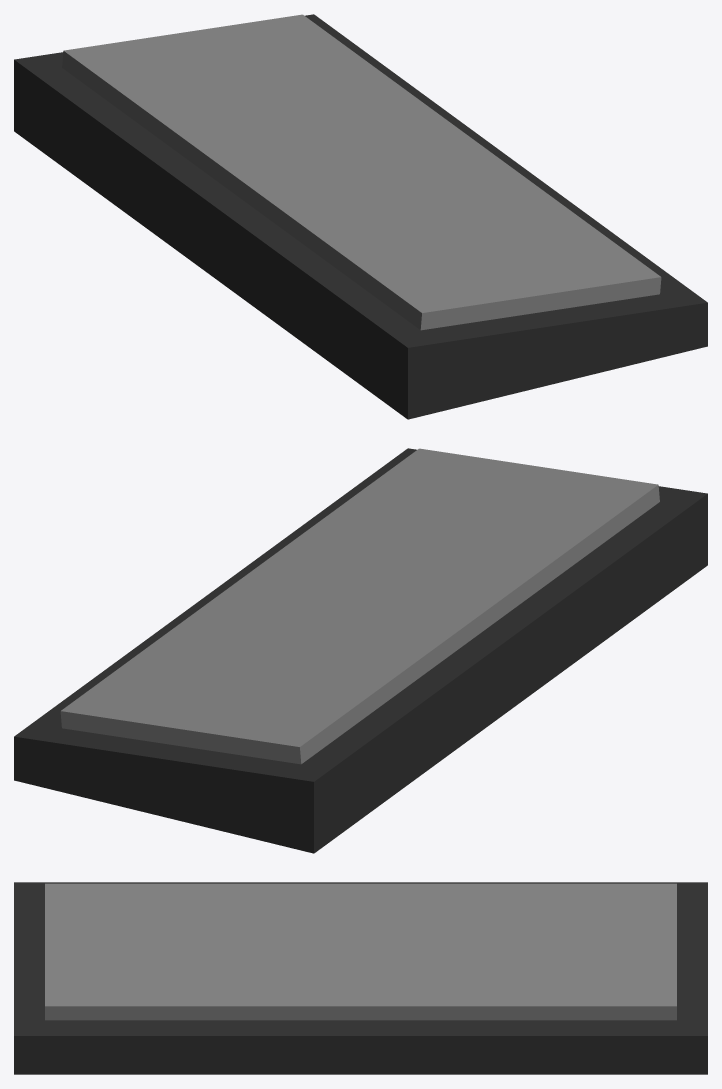
Rendered from Keyboard.fbx.
The picture shows the model from 3 angles, top to bottom: view 1: azimuth 30°, elevation 25°; view 2: azimuth 150°, elevation 25°; view 3: azimuth 270°, elevation 25°; orthographic projection. The views are drawn at different scales.
Parts seen in each view (by area): view 1: Keyboard; view 2: Keyboard; view 3: Keyboard.
Boxes of the visible parts, bbox=[...] form: Keyboard: bbox=[14, 14, 707, 419]; Keyboard: bbox=[14, 448, 707, 853]; Keyboard: bbox=[14, 882, 707, 1074].
Bounding box in the file's own units: 14.76 × 4.04 × 33.56.
Materials: 1 (1 with a texture image).
